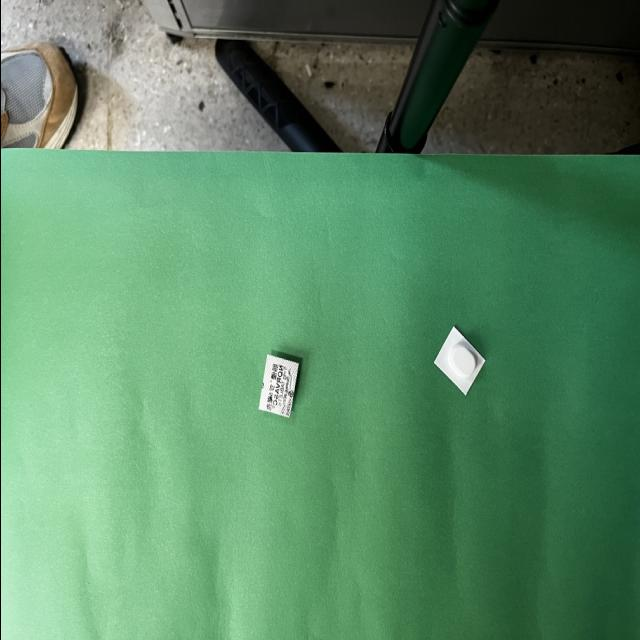Other Objects: (434, 326, 484, 394), (258, 355, 298, 417)
